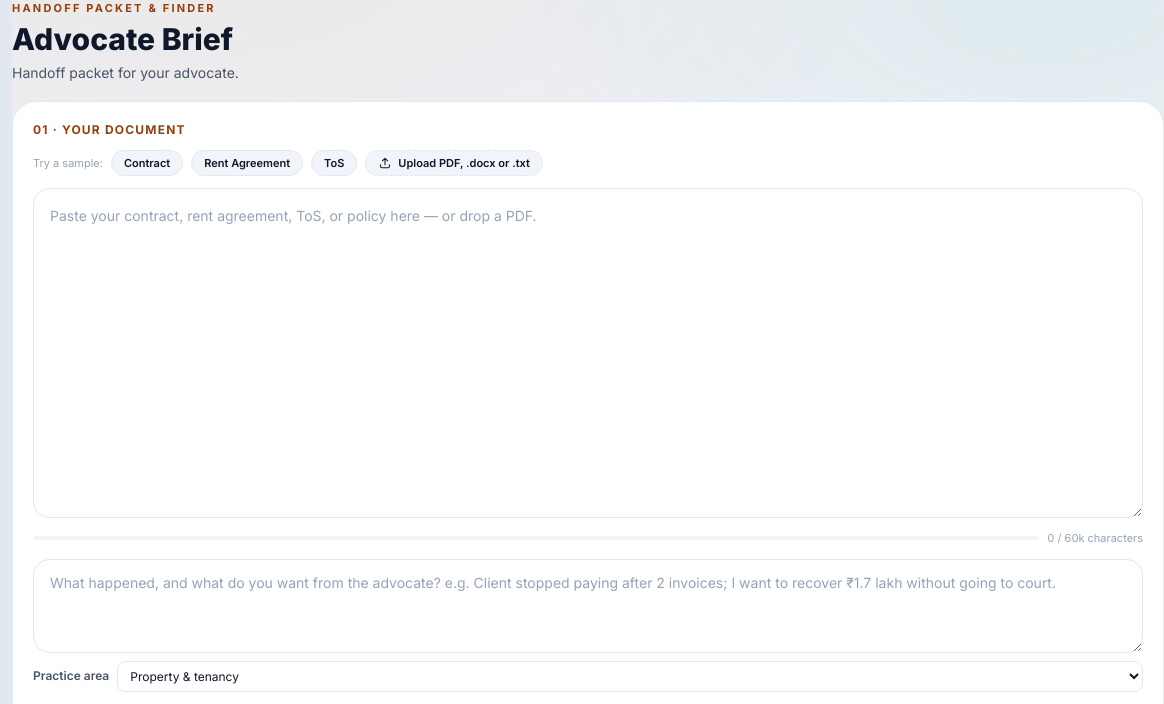
Scenario: Roadmap features › builds an advocate brief and lists where to find an advocate
Click the button "Contract": (147, 163) top-left (111, 150), bottom-right (183, 176)
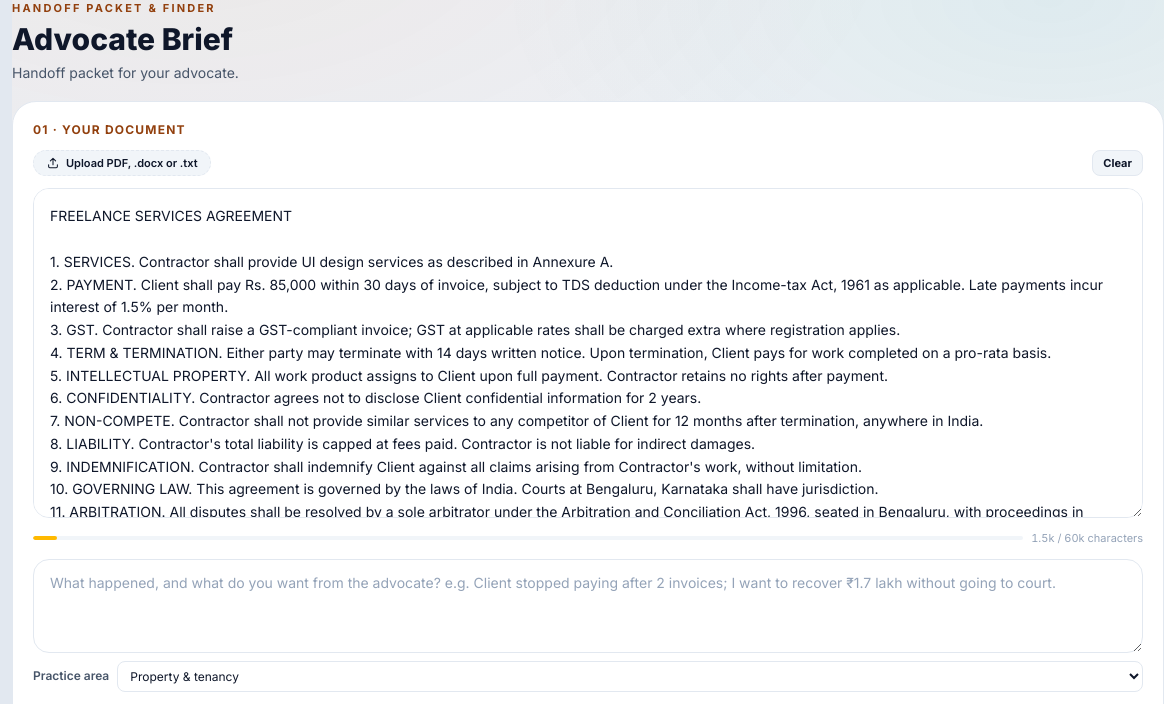
Replace the text in the text box named "Your situation" with "Client has not paid two invoices": (588, 606) top-left (33, 558), bottom-right (1143, 653)
(page scrolled)
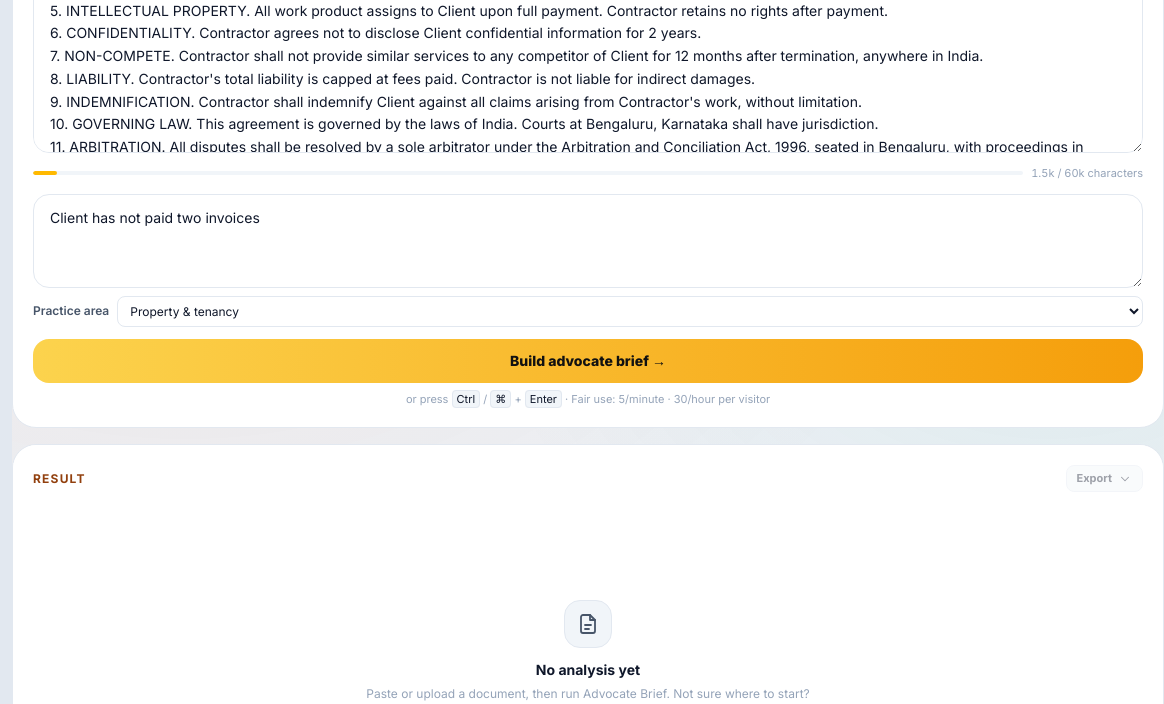
Click the button "Build advocate brief →": (588, 361) top-left (33, 339), bottom-right (1143, 383)
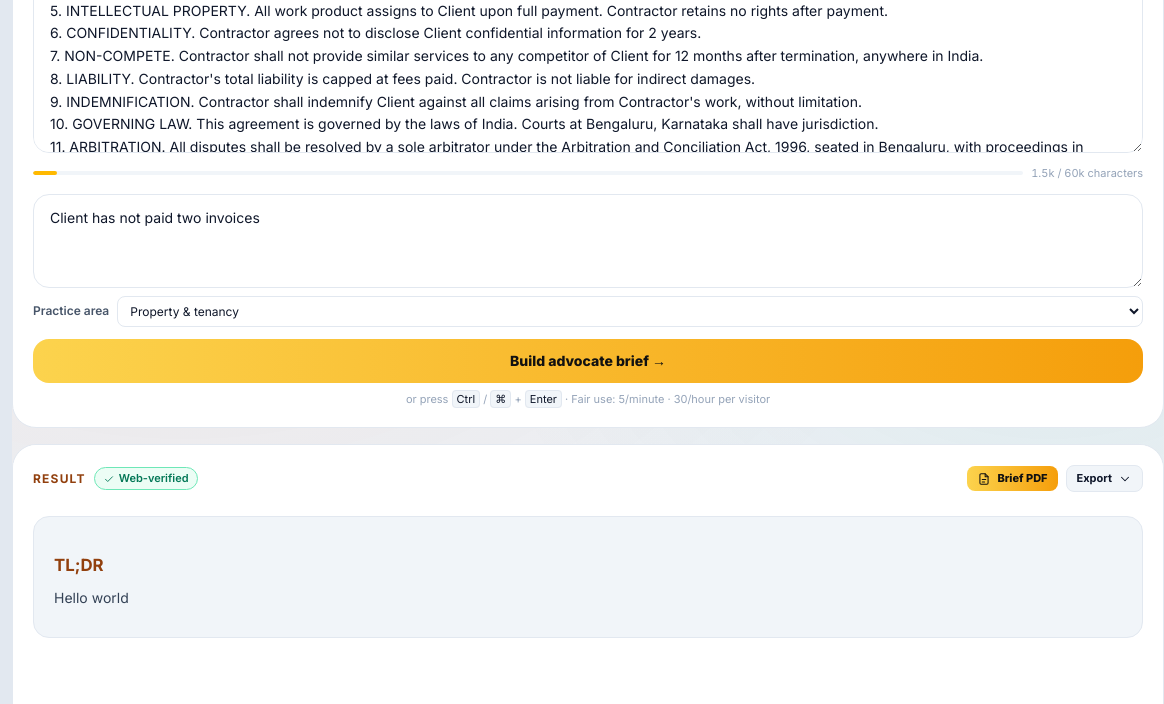
expect the button "Brief PDF" is shown: met, box top-left (967, 466), bottom-right (1058, 491)
